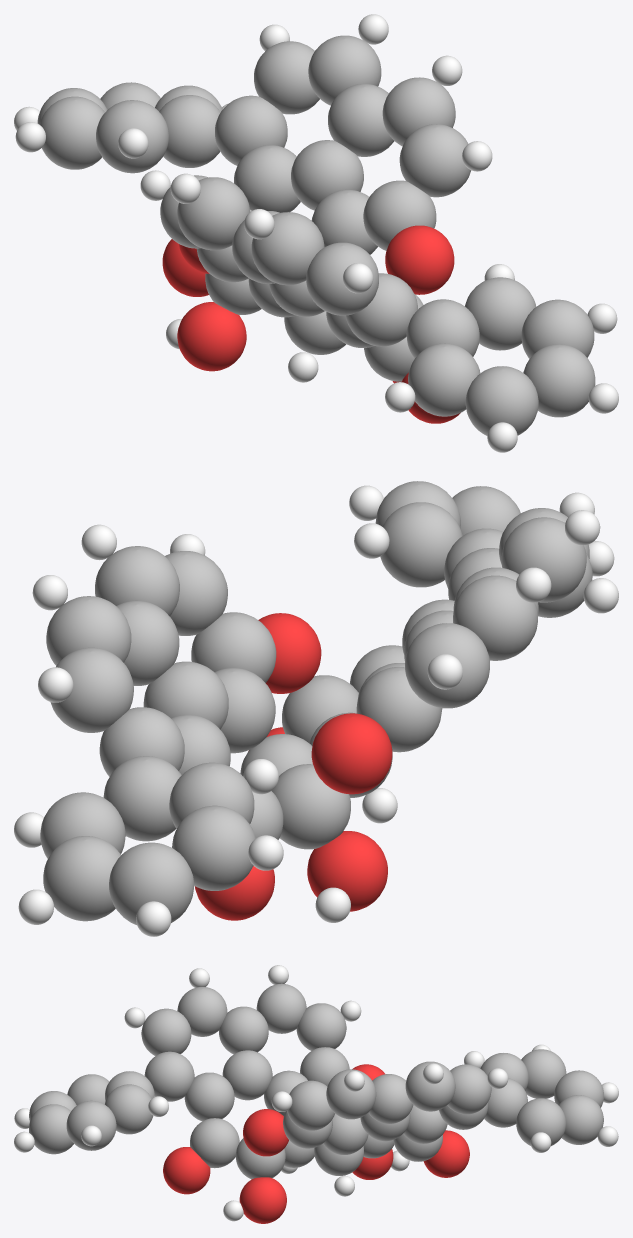
Rendered from anigorootin.glb.
The picture shows the model from 3 angles, top to bottom: view 1: azimuth 30°, elevation 25°; view 2: azimuth 150°, elevation 25°; view 3: azimuth 270°, elevation 25°; orthographic projection. The views are drawn at different scales.
Parts seen in each view (by area): view 1: Carbon_ball_16, Carbon_ball_70, Carbon_ball_66, Carbon_ball_72, Oxygen_ball_10, Carbon_ball_62, Carbon_ball_48, Carbon_ball_30, Carbon_ball_68, Oxygen_ball_2, Carbon_ball_10, Carbon_ball_8 (+40 smaller); view 2: Carbon_ball_30, Oxygen_ball_6, Carbon_ball_68, Carbon_ball_28, Carbon_ball_8, Carbon_ball_22, Carbon_ball_62, Carbon_ball_60, Carbon_ball_20, Carbon_ball_34, Oxygen_ball_10, Carbon_ball_48 (+46 smaller); view 3: Carbon_ball_46, Carbon_ball_50, Carbon_ball_42, Carbon_ball_52, Carbon_ball_54, Carbon_ball_60, Carbon_ball_62, Carbon_ball_44, Carbon_ball_48, Oxygen_ball_8, Carbon_ball_16, Carbon_ball_68 (+32 smaller).
Part boxes in pixels (x1=…): Carbon_ball_16: x1=399, y1=124, x2=471, y2=197; Carbon_ball_70: x1=408, y1=343, x2=480, y2=416; Carbon_ball_66: x1=523, y1=344, x2=595, y2=417; Carbon_ball_72: x1=465, y1=366, x2=538, y2=435; Oxygen_ball_10: x1=177, y1=302, x2=246, y2=371; Carbon_ball_62: x1=177, y1=177, x2=250, y2=250; Carbon_ball_48: x1=251, y1=212, x2=324, y2=285; Carbon_ball_30: x1=39, y1=96, x2=104, y2=169; Carbon_ball_68: x1=465, y1=277, x2=536, y2=350; Oxygen_ball_2: x1=385, y1=225, x2=454, y2=294; Carbon_ball_10: x1=328, y1=84, x2=393, y2=156; Carbon_ball_8: x1=254, y1=41, x2=319, y2=114; Carbon_ball_30: x1=172, y1=805, x2=255, y2=890; Oxygen_ball_6: x1=311, y1=713, x2=392, y2=794; Carbon_ball_68: x1=380, y1=502, x2=462, y2=587; Carbon_ball_28: x1=43, y1=836, x2=121, y2=921; Carbon_ball_8: x1=50, y1=647, x2=133, y2=732; Carbon_ball_22: x1=109, y1=842, x2=193, y2=924; Carbon_ball_62: x1=453, y1=575, x2=537, y2=660; Carbon_ball_60: x1=405, y1=623, x2=489, y2=708; Carbon_ball_20: x1=103, y1=756, x2=181, y2=841; Carbon_ball_34: x1=272, y1=764, x2=350, y2=849; Oxygen_ball_10: x1=307, y1=831, x2=387, y2=911; Carbon_ball_48: x1=501, y1=517, x2=586, y2=602; Carbon_ball_46: x1=184, y1=1072, x2=234, y2=1121; Carbon_ball_50: x1=222, y1=1050, x2=272, y2=1100; Carbon_ball_42: x1=190, y1=1118, x2=239, y2=1168; Carbon_ball_52: x1=141, y1=1008, x2=191, y2=1055; Carbon_ball_54: x1=219, y1=1006, x2=268, y2=1054; Carbon_ball_60: x1=296, y1=1003, x2=346, y2=1050; Carbon_ball_62: x1=256, y1=983, x2=306, y2=1033; Carbon_ball_44: x1=144, y1=1051, x2=194, y2=1101; Carbon_ball_48: x1=177, y1=987, x2=227, y2=1036; Oxygen_ball_8: x1=239, y1=1177, x2=286, y2=1223; Carbon_ball_16: x1=287, y1=1080, x2=334, y2=1130; Carbon_ball_68: x1=105, y1=1084, x2=153, y2=1134.
Size of the model in its own units: 8.33 by 6.21 by 18.59.
